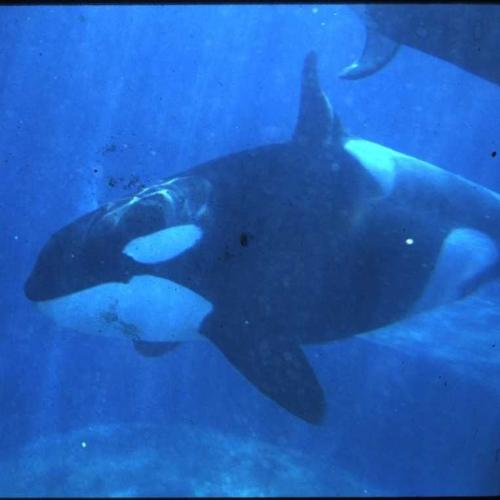killer_whale-endangered: (24, 66, 500, 382)
